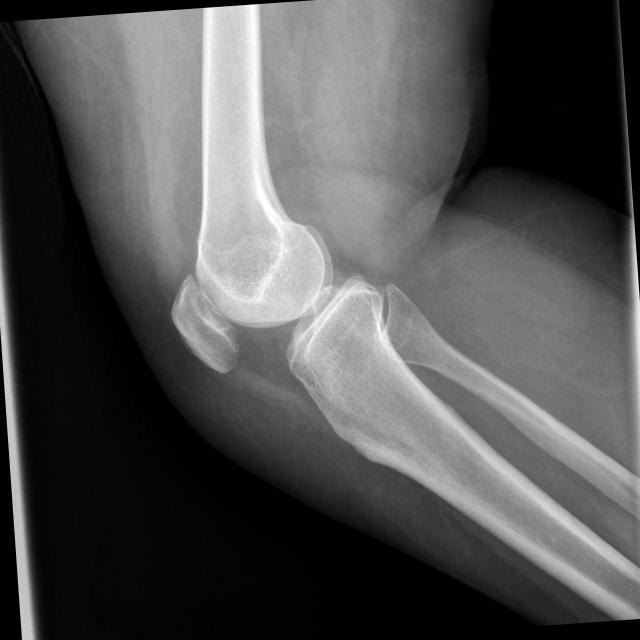Knee: (165, 212, 426, 414)
